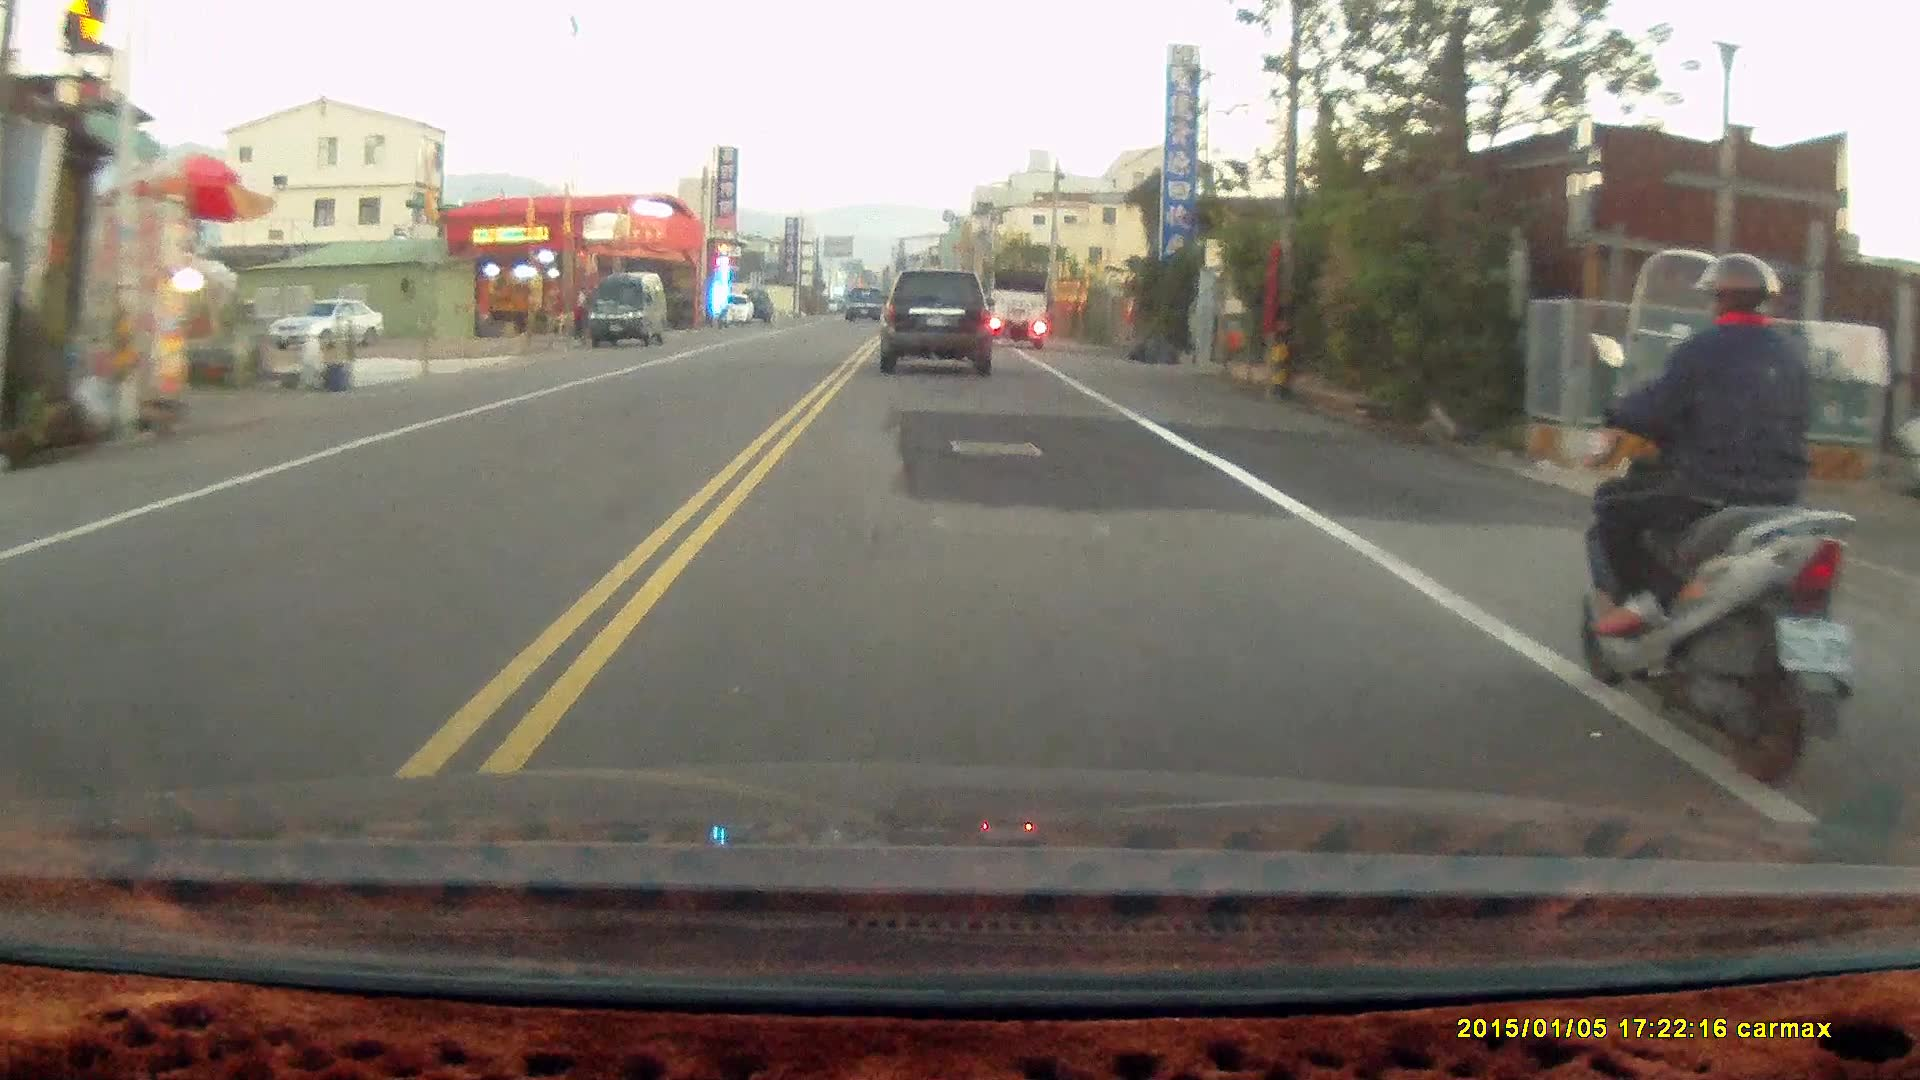rider: (1577, 250, 1852, 783)
vehicle: (880, 271, 999, 377), (587, 273, 669, 352), (270, 298, 385, 353), (988, 271, 1051, 352)
